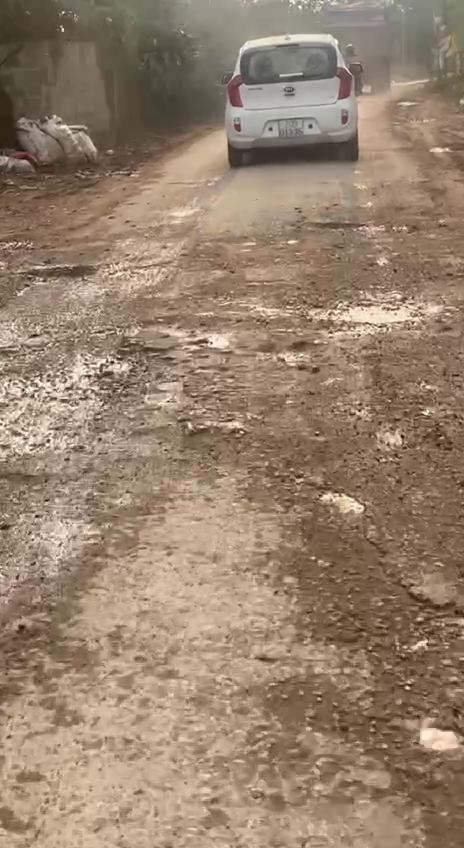pothole: (0, 306, 220, 473), (294, 293, 450, 335)
